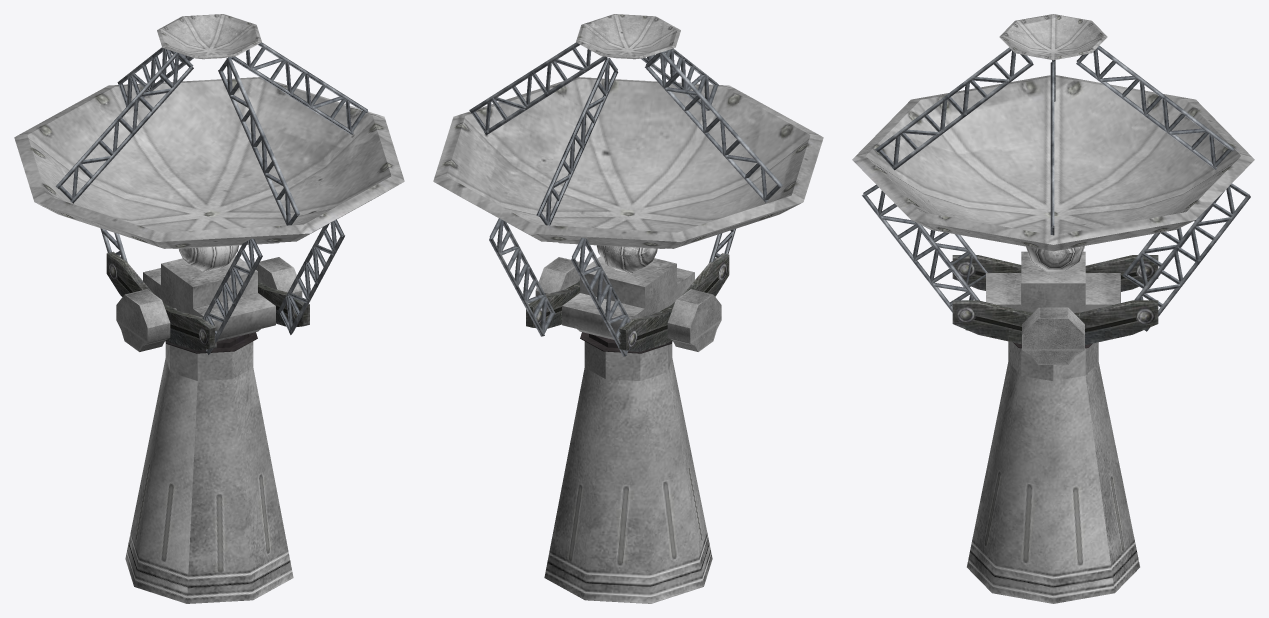
3 views of the same model, side by side, from view 1: azimuth 30°, elevation 25°; view 2: azimuth 150°, elevation 25°; view 3: azimuth 270°, elevation 25° (orthographic).
Visible parts, largest first — view 1: base_10; view 2: base_10; view 3: base_10.
Boxes of the visible parts, x1,y1,x2,y2 form: base_10: (14,14,404,603); base_10: (433,14,823,603); base_10: (852,14,1254,603).
Size of the model in its own units: 44.45 by 64.68 by 44.45.
